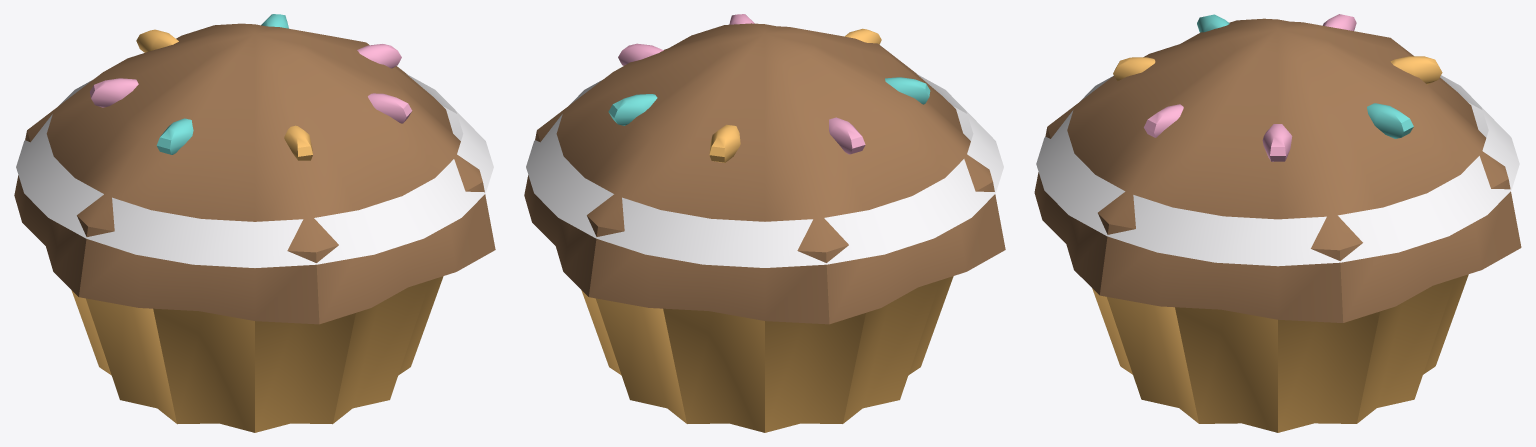
File: Cupcake_Choco.fbx
The picture shows the model from 3 angles, left to right: view 1: azimuth 30°, elevation 25°; view 2: azimuth 150°, elevation 25°; view 3: azimuth 270°, elevation 25°; orthographic projection.
Visible parts, largest first — view 1: Cupcake_Choco; view 2: Cupcake_Choco; view 3: Cupcake_Choco.
Part boxes in pixels (box(x1,y1,x2,y2)): Cupcake_Choco: box(14, 14, 495, 432); Cupcake_Choco: box(524, 14, 1005, 432); Cupcake_Choco: box(1034, 14, 1521, 432).
Bounding box in the file's own units: 3.93 × 3 × 3.93.
